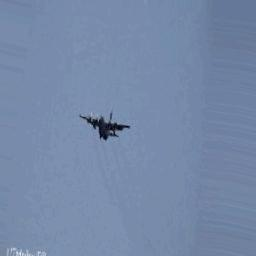Airplane: (78, 111, 133, 142)
